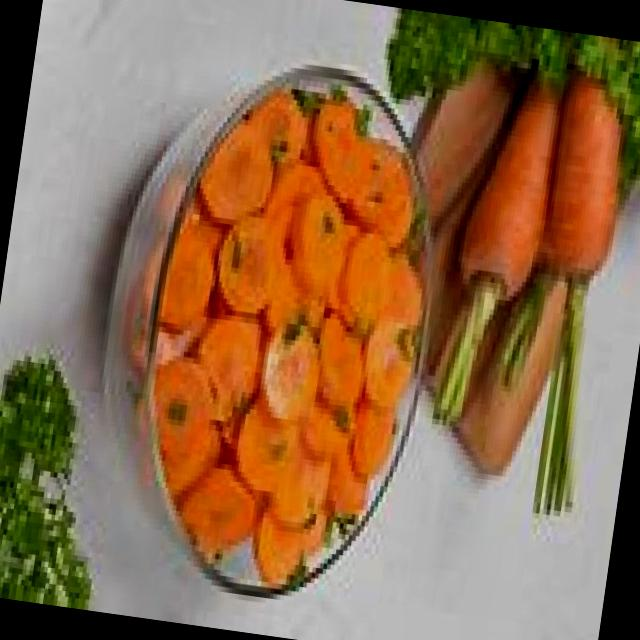carrot: (447, 64, 566, 303), (537, 68, 634, 300)
